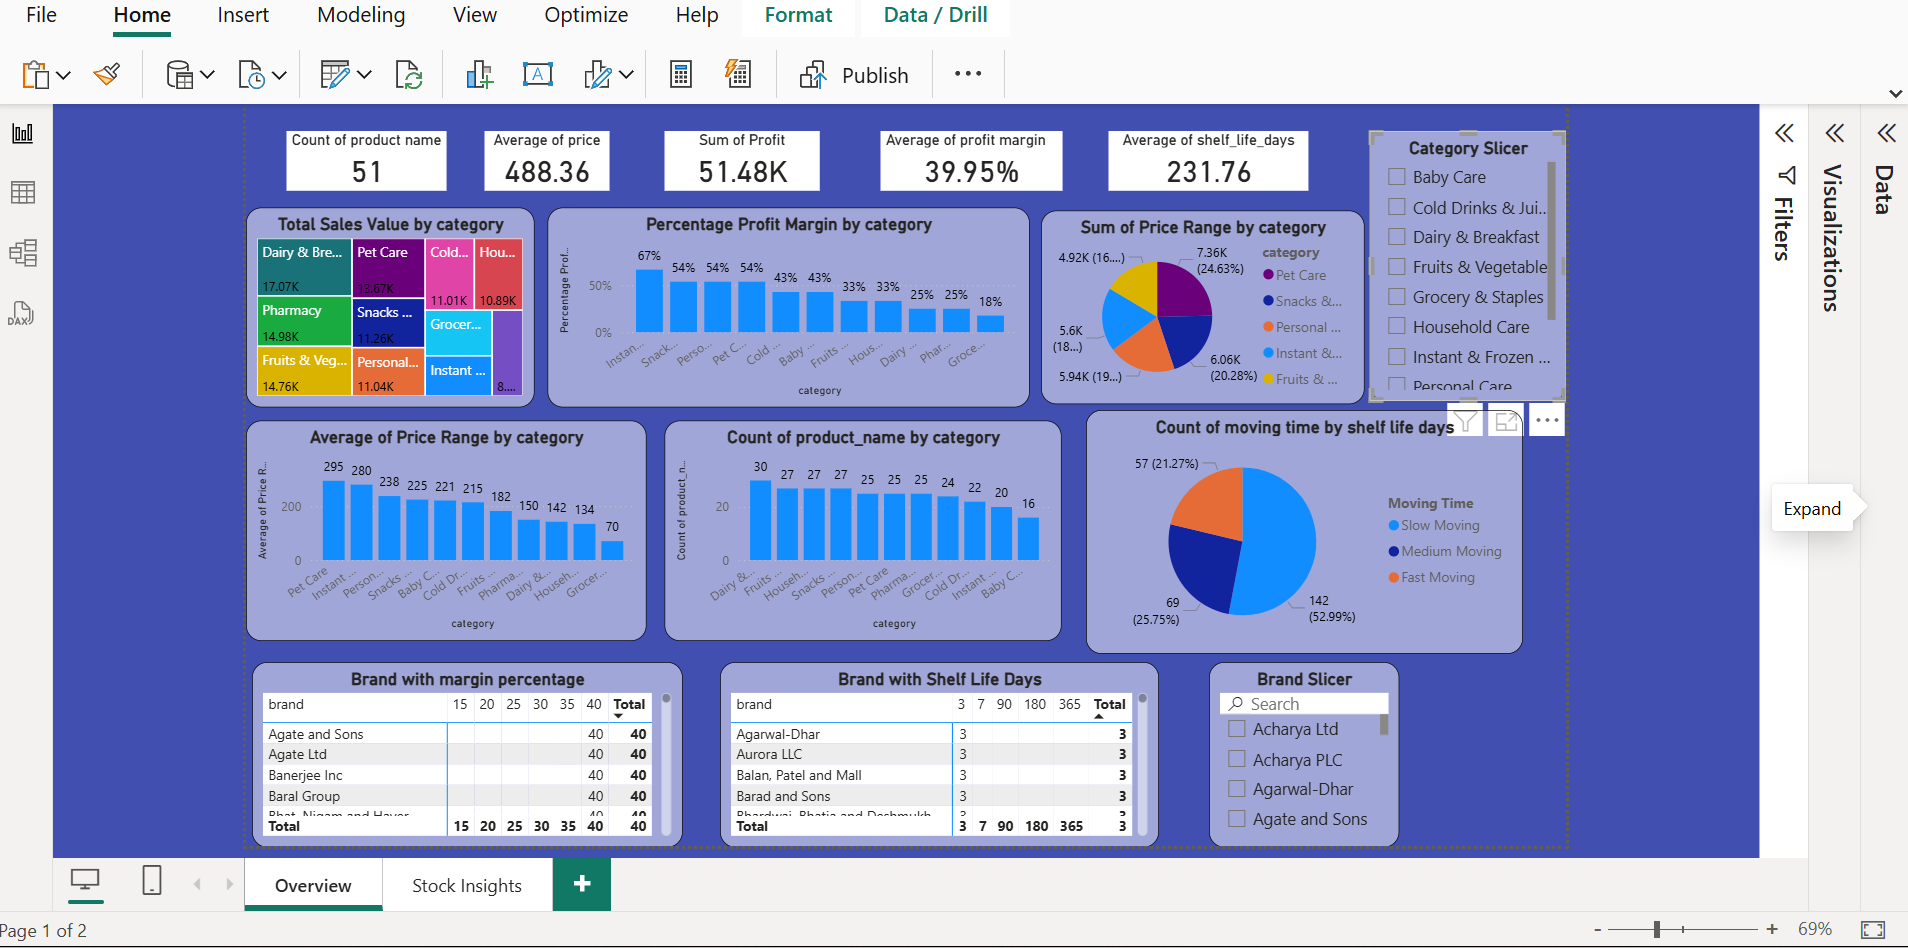

Layout of this report page (visuals, bound fields, positions):
{"tool":"powerbi","page":{"name":"Overview","canvas":[1280,720],"ordinal":1},"visuals":[{"type":"card","title":"Count of product name","fields":{"Values":["Count(blinkit_products.product_name)"]},"box":[137.6,25.9,155.4,58.3],"z":0},{"type":"card","title":"Average of price","fields":{"Values":["Avg(blinkit_products.price)"]},"box":[338.4,25.9,121.4,58.3],"z":1000},{"type":"card","title":"Average of profit margin","fields":{"Values":["Avg(blinkit_products.Profit Margin)"]},"box":[702.7,25.9,176.5,58.3],"z":2000},{"type":"card","title":"Sum of Profit","fields":{"Values":["Sum(blinkit_products.Profit)"]},"box":[506.8,25.9,150.6,58.3],"z":3000},{"type":"card","title":"Average of shelf_life_days","fields":{"Values":["Avg(blinkit_products.shelf_life_days)"]},"box":[934.3,25.9,194.3,58.3],"z":4000},{"type":"treemap","fields":{"Group":["blinkit_products.category"],"Values":["1. Measure.Total Sales Value"]},"box":[0,100.4,280.1,194.3],"z":5000},{"type":"columnChart","fields":{"Y":["1. Measure.Profit Margin by Category"],"Category":["blinkit_products.category"]},"box":[293.1,100.4,468,194.3],"z":6000},{"type":"pieChart","fields":{"Category":["blinkit_products.category"],"Y":["Sum(blinkit_products.Profit)"]},"box":[775.6,100.4,294.7,187.8],"z":7000},{"type":"columnChart","fields":{"Category":["blinkit_products.category"],"Y":["CountNonNull(blinkit_products.product_name)"]},"box":[523,307.7,536,213.7],"z":8000},{"type":"columnChart","fields":{"Category":["blinkit_products.category"],"Y":["Avg(blinkit_products.Price Range)"]},"box":[0,307.7,490.6,213.7],"z":9000},{"type":"pivotTable","title":"Brand with margin percentage","fields":{"Rows":["blinkit_products.brand"],"Values":["Max(blinkit_products.margin_percentage)"],"Columns":["blinkit_products.margin_percentage"]},"box":[6.5,540.8,417.8,179.7],"z":10000},{"type":"pivotTable","title":"Brand with Shelf Life Days","fields":{"Rows":["blinkit_products.brand"],"Values":["Min(blinkit_products.shelf_life_days)"],"Columns":["blinkit_products.shelf_life_days"]},"box":[459.9,540.8,425.9,179.7],"z":11000},{"type":"slicer","title":"Category Slicer","fields":{"Values":["blinkit_products.category"]},"box":[1089.7,102,191.1,374],"z":12000},{"type":"slicer","title":"Brand Slicer","fields":{"Values":["blinkit_products.brand"]},"box":[934.3,540.8,184.6,179.7],"z":12001}]}

Visuals, with their boxes on the page's 1280x720 design canvas (x1, y1, x2, y2). These are canvas units, not pixel positions in the 1908x948 screenshot, which may show the page scaled, cropped or inside an application window:
"Count of product name" card: Rect(138, 26, 293, 84)
"Average of price" card: Rect(338, 26, 460, 84)
"Average of profit margin" card: Rect(703, 26, 879, 84)
"Sum of Profit" card: Rect(507, 26, 657, 84)
"Average of shelf_life_days" card: Rect(934, 26, 1129, 84)
treemap - blinkit_products.category x 1. Measure.Total Sales Value: Rect(0, 100, 280, 295)
columnChart - 1. Measure.Profit Margin by Category x blinkit_products.category: Rect(293, 100, 761, 295)
pieChart - blinkit_products.category x Sum(blinkit_products.Profit): Rect(776, 100, 1070, 288)
columnChart - blinkit_products.category x CountNonNull(blinkit_products.product_name): Rect(523, 308, 1059, 521)
columnChart - blinkit_products.category x Avg(blinkit_products.Price Range): Rect(0, 308, 491, 521)
"Brand with margin percentage" pivotTable: Rect(6, 541, 424, 720)
"Brand with Shelf Life Days" pivotTable: Rect(460, 541, 886, 720)
"Category Slicer" slicer: Rect(1090, 102, 1281, 476)
"Brand Slicer" slicer: Rect(934, 541, 1119, 720)
